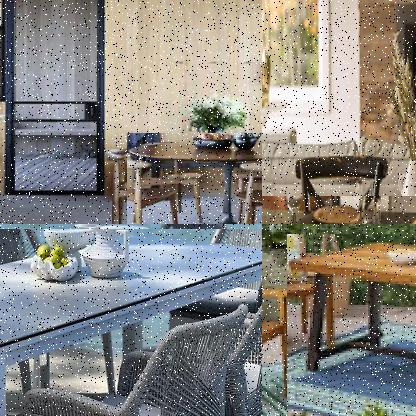table: (0, 229, 261, 415), (285, 234, 415, 415), (126, 133, 261, 223)
